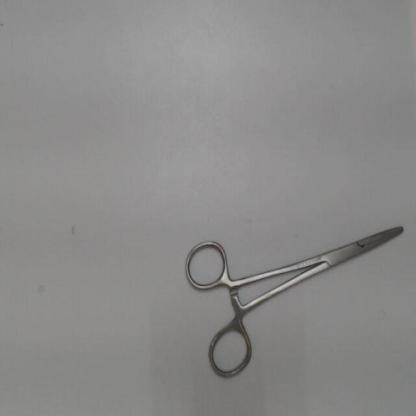Mayo Needle Holder: (180, 213, 412, 388)
